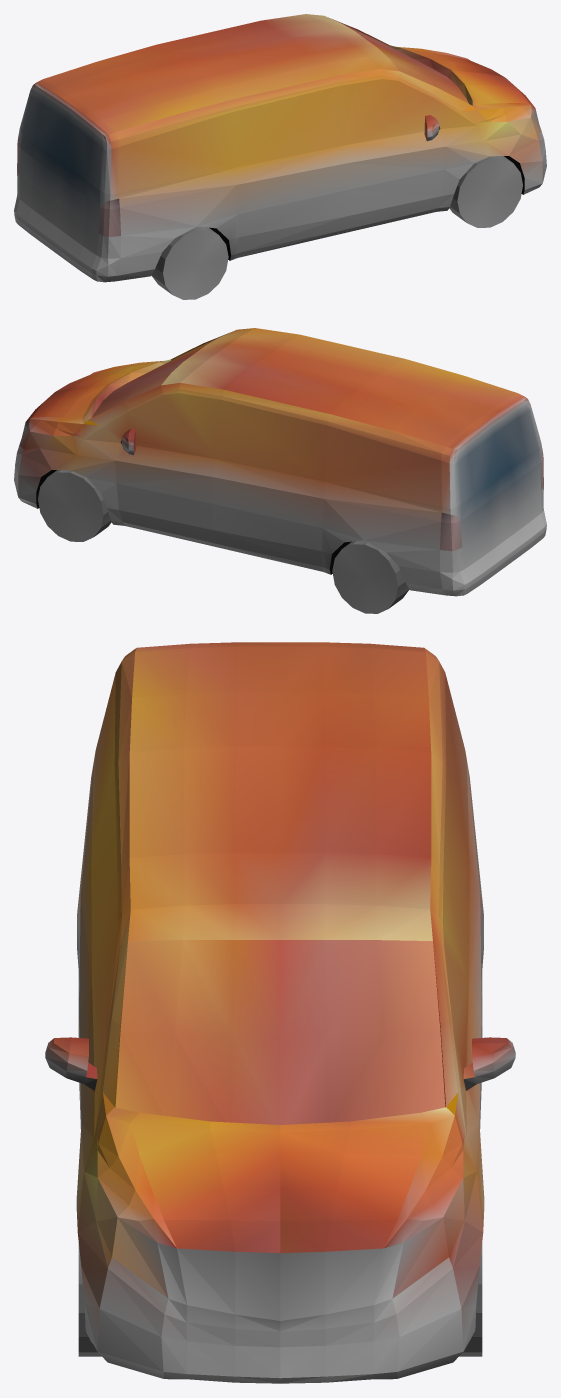
The model's file is stylized_model.glb.
3 views of the same model, one above another, from view 1: azimuth 30°, elevation 25°; view 2: azimuth 150°, elevation 25°; view 3: azimuth 270°, elevation 25° (orthographic). The views are drawn at different scales.
Visible parts, largest first — view 1: vklasse_01 - Default_0; view 2: vklasse_01 - Default_0; view 3: vklasse_01 - Default_0.
Boxes of the visible parts, box(x1,y1,x2,y2) form: vklasse_01 - Default_0: box(14, 14, 546, 299); vklasse_01 - Default_0: box(14, 328, 546, 613); vklasse_01 - Default_0: box(45, 642, 515, 1383).
Size of the model in its own units: 516 by 190 by 223.
